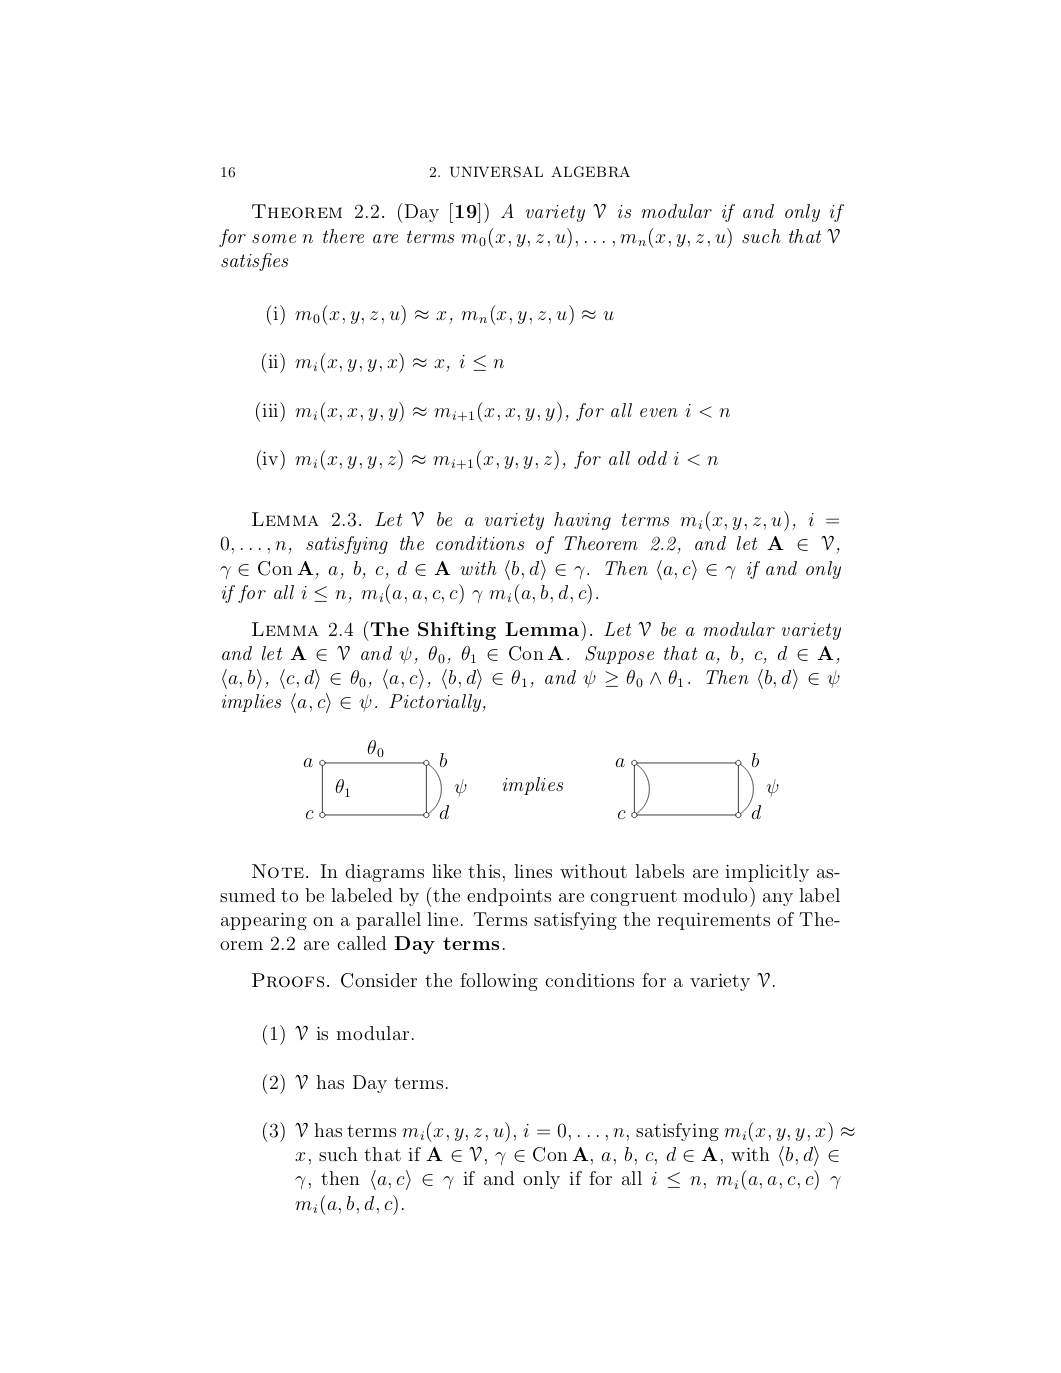figure: (303, 739, 778, 820)
formula: (256, 401, 729, 422), (257, 449, 717, 470), (267, 304, 613, 325), (262, 352, 503, 373), (295, 1194, 403, 1215)
